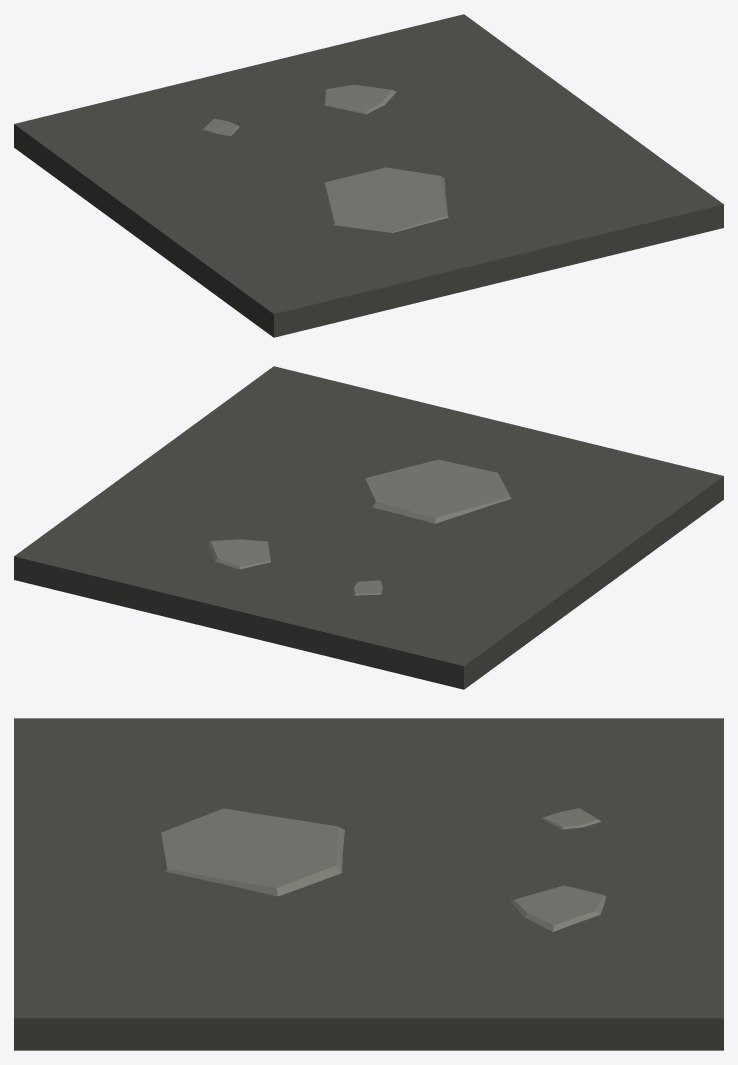
File: floor_8.glb
3 renders of one model, top to bottom at view 1: azimuth 30°, elevation 25°; view 2: azimuth 150°, elevation 25°; view 3: azimuth 270°, elevation 25°, orthographic. The views are drawn at different scales.
Parts seen in each view (by area): view 1: Floor_8; view 2: Floor_8; view 3: Floor_8.
Part boxes in pixels (x1,y1,x2,y2): Floor_8: [14, 14, 723, 337]; Floor_8: [14, 366, 723, 689]; Floor_8: [14, 718, 723, 1050].
Size of the model in its own units: 2 by 0.1189 by 2.
1 material, 1 textured.
